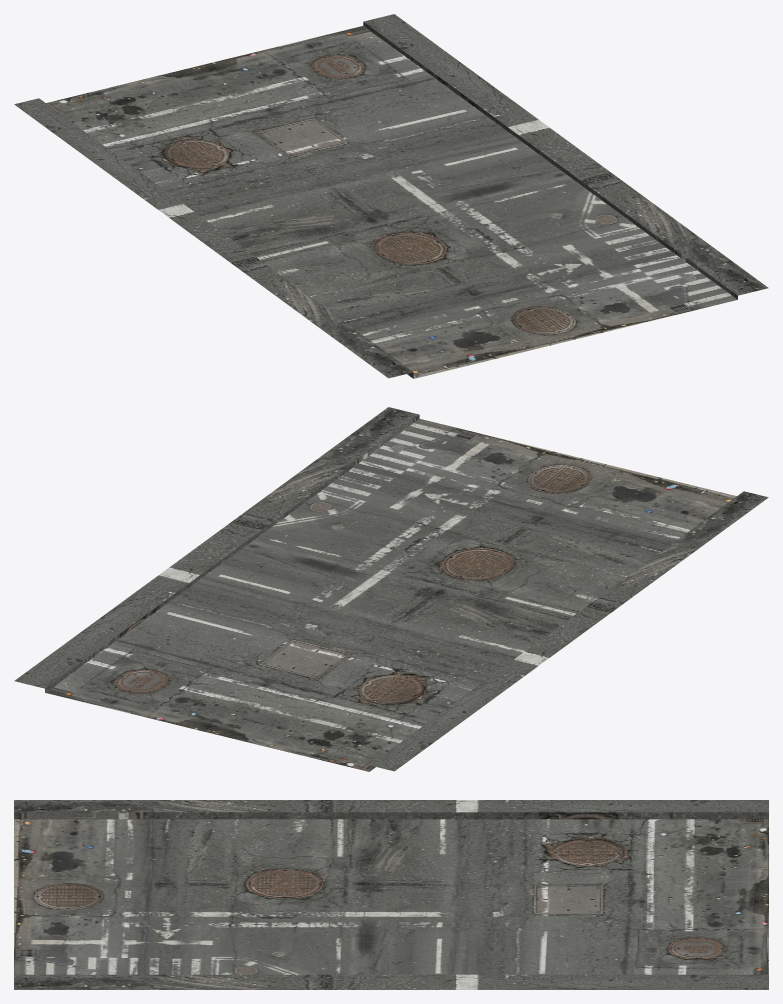
Rendered from road_test.glb.
3 views of the same model, one above another, from view 1: azimuth 30°, elevation 25°; view 2: azimuth 150°, elevation 25°; view 3: azimuth 270°, elevation 25° (orthographic).
Visible parts, largest first — view 1: Plane; view 2: Plane; view 3: Plane.
Boxes of the visible parts, x1=… form: Plane: x1=14, y1=14, x2=768, y2=378; Plane: x1=14, y1=407, x2=768, y2=771; Plane: x1=14, y1=800, x2=768, y2=989.
Bounding box in the file's own units: 9.39 × 0.1567 × 16.
1 material, 1 textured.
